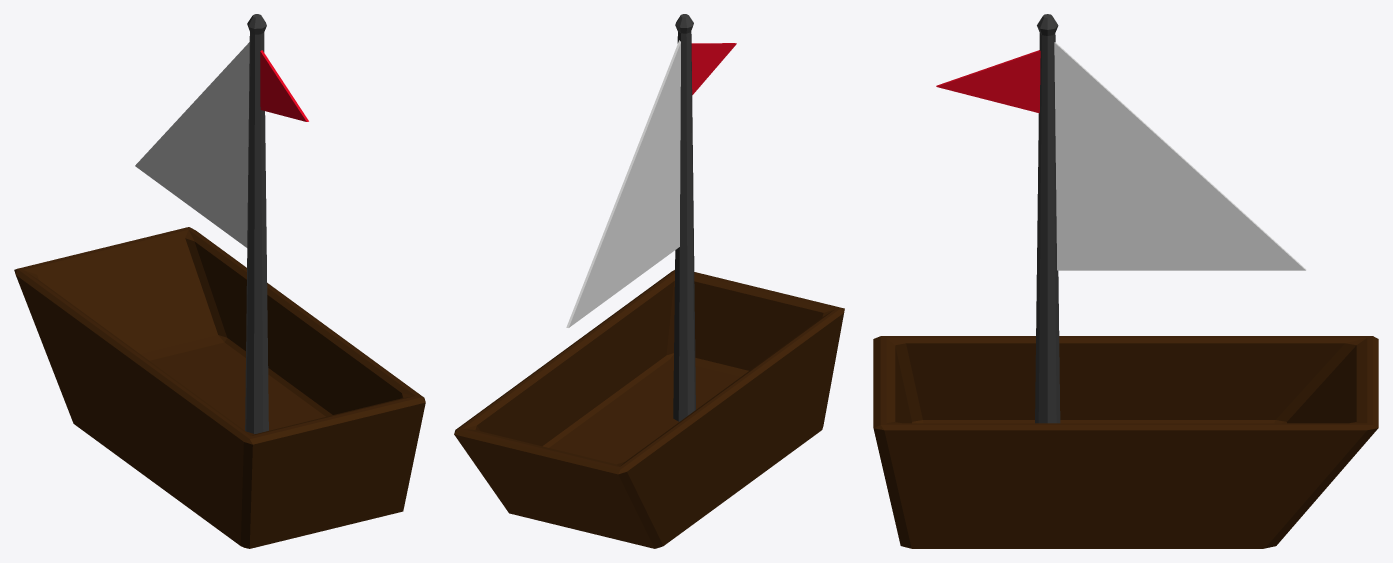
The model's file is HMSBoat.fbx.
3 renders of one model, left to right at view 1: azimuth 30°, elevation 25°; view 2: azimuth 150°, elevation 25°; view 3: azimuth 270°, elevation 25°, orthographic. The views are drawn at different scales.
Visible parts, largest first — view 1: HMSBoat, Plane.005, Cylinder.012, Plane.006; view 2: HMSBoat, Plane.005, Cylinder.012, Plane.006; view 3: HMSBoat, Plane.005, Cylinder.012, Plane.006.
Part boxes in pixels (box(x1,y1,x2,y2)): HMSBoat: box(14, 227, 425, 548); Plane.005: box(135, 42, 249, 247); Cylinder.012: box(245, 14, 268, 433); Plane.006: box(260, 50, 308, 121); HMSBoat: box(454, 270, 844, 548); Plane.005: box(566, 40, 680, 327); Cylinder.012: box(673, 14, 695, 421); Plane.006: box(691, 43, 736, 94); HMSBoat: box(873, 336, 1378, 548); Plane.005: box(1054, 42, 1306, 270); Cylinder.012: box(1035, 14, 1060, 423); Plane.006: box(936, 50, 1040, 113).
Size of the model in its own units: 225 by 554 by 514.
